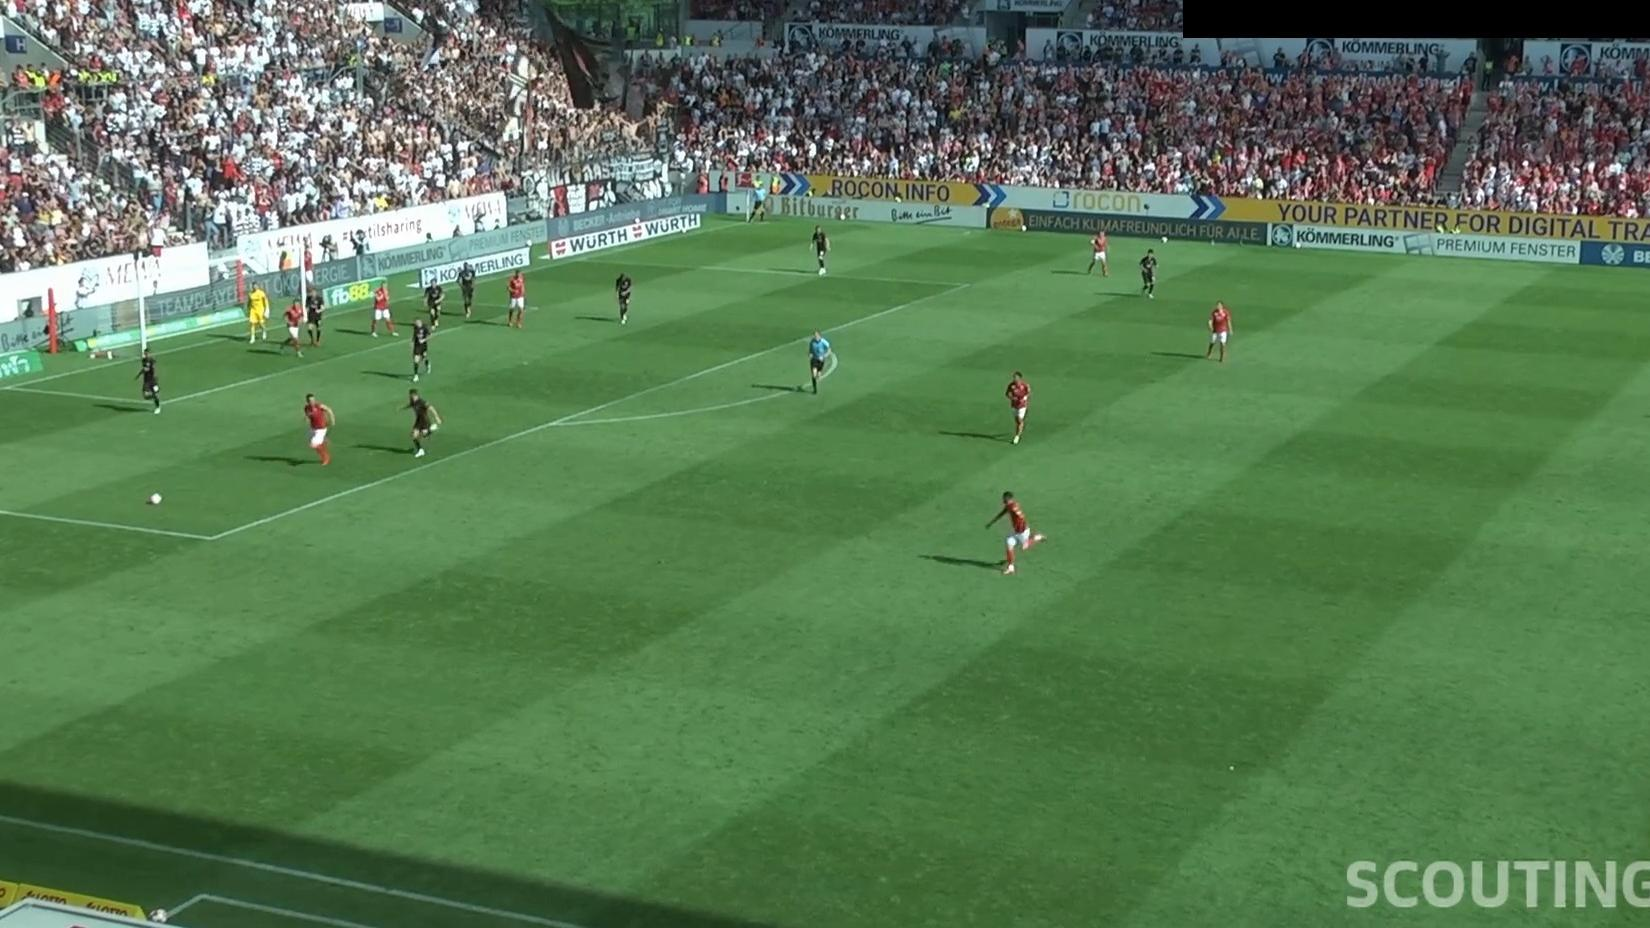ball: (150, 491, 162, 504)
